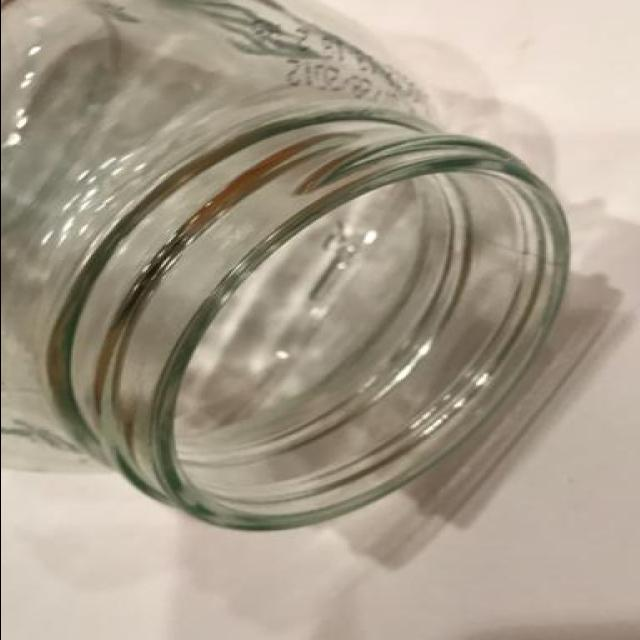Glass Bottle: (4, 0, 574, 536)
